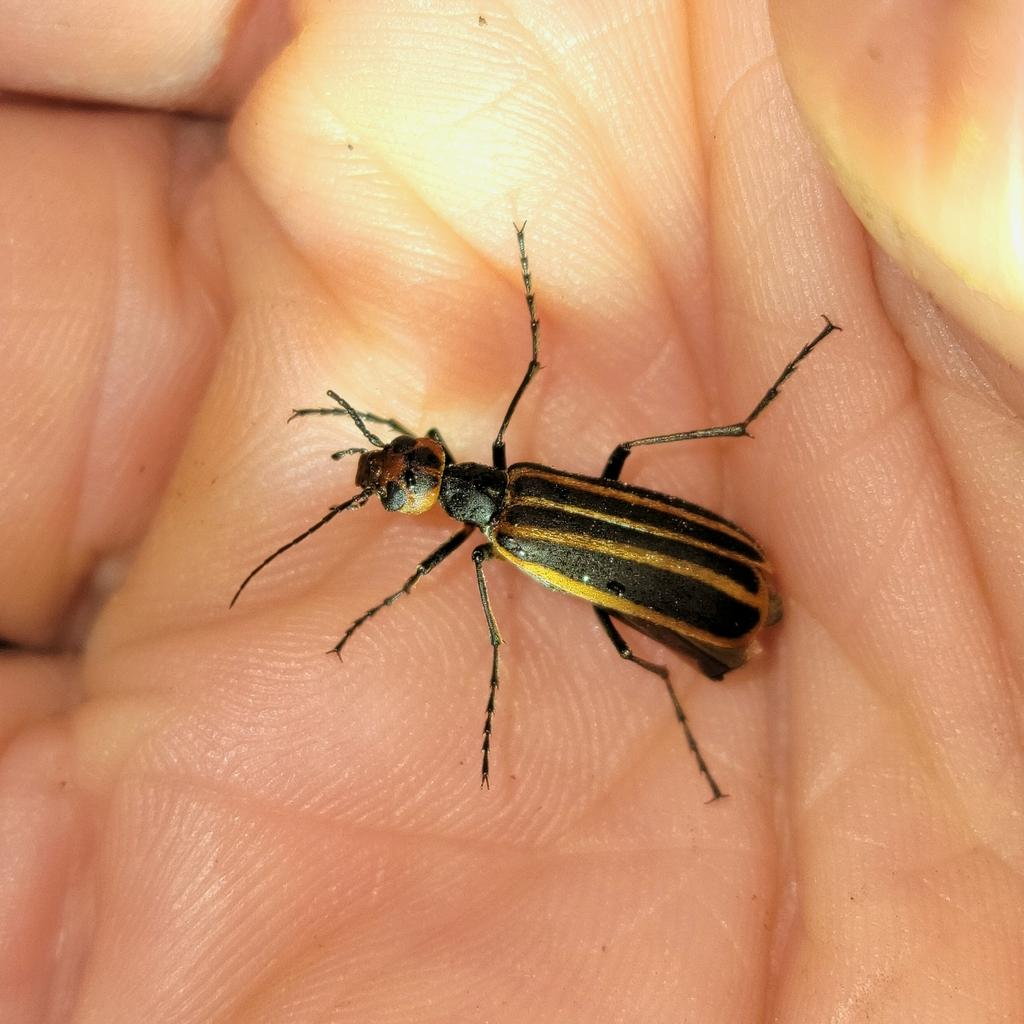blister_beetle: (186, 167, 1001, 886)
